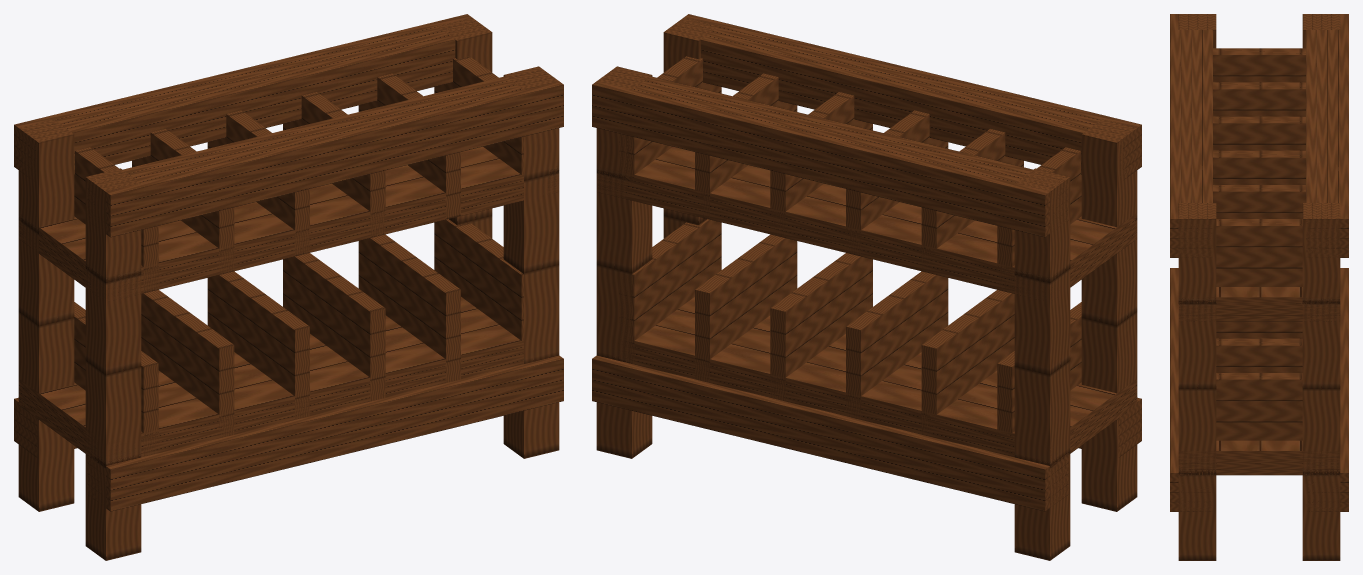
The model's file is rural-scavenging-settlements-wall-plate-rack-409f25d2__26560.glb.
The picture shows the model from 3 angles, left to right: view 1: azimuth 30°, elevation 25°; view 2: azimuth 150°, elevation 25°; view 3: azimuth 270°, elevation 25°; orthographic projection. The views are drawn at different scales.
Parts seen in each view (by area): view 1: wall-plate-rack; view 2: wall-plate-rack; view 3: wall-plate-rack.
Part boxes in pixels (left/top/right/bottom): wall-plate-rack: left=14, top=14, right=563, bottom=560; wall-plate-rack: left=592, top=14, right=1141, bottom=560; wall-plate-rack: left=1170, top=14, right=1348, bottom=560.
Size of the model in its own units: 0.9 by 0.7 by 0.332.
Materials: 1 (1 with a texture image).
